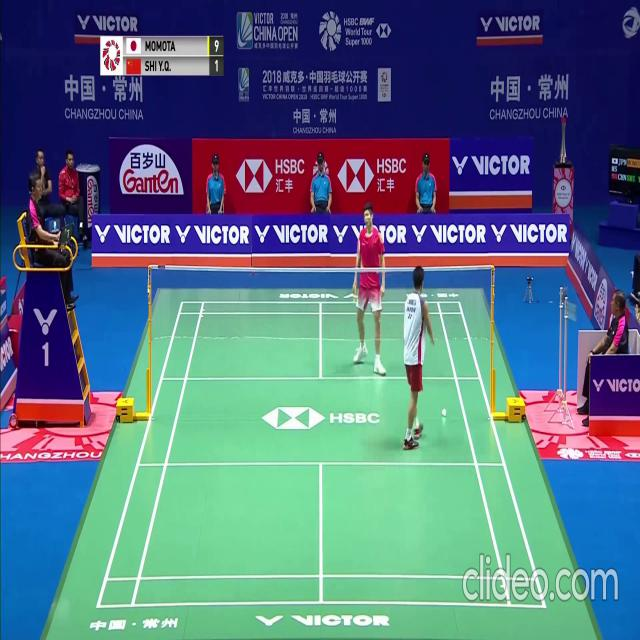Shuttlecock: (443, 409, 448, 416)
